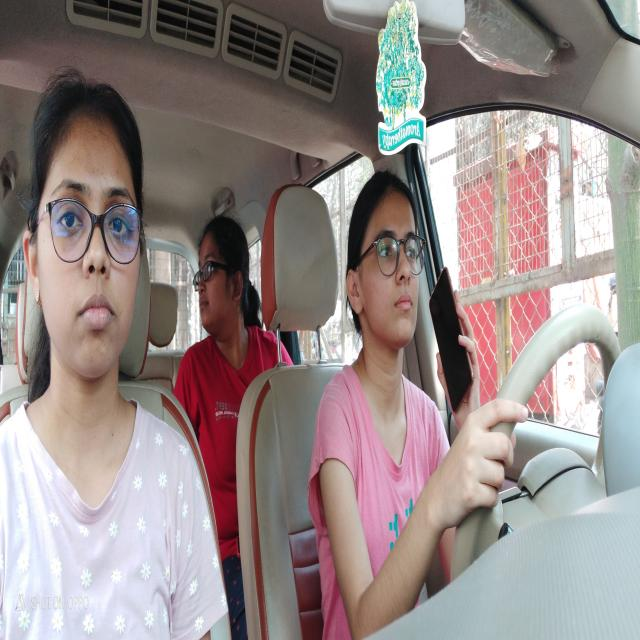mobile: (429, 265, 477, 422)
person: (22, 62, 150, 387), (341, 168, 429, 355), (192, 206, 255, 335)
